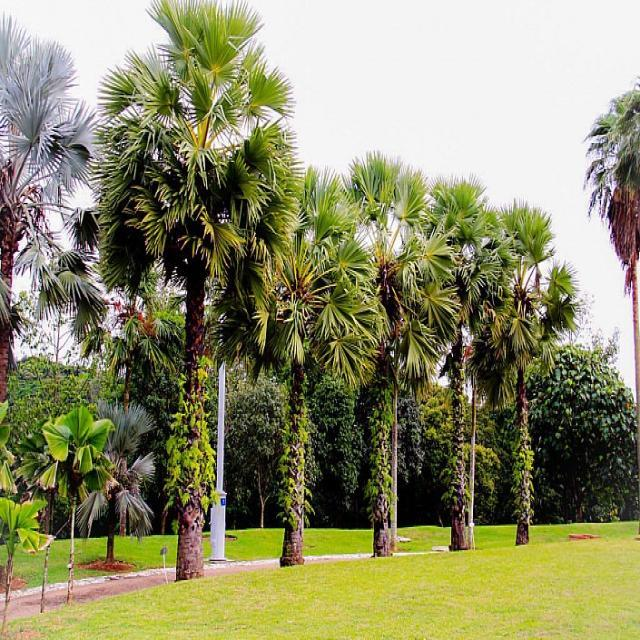Plam-Tree: (91, 37, 282, 625), (121, 77, 252, 329)
